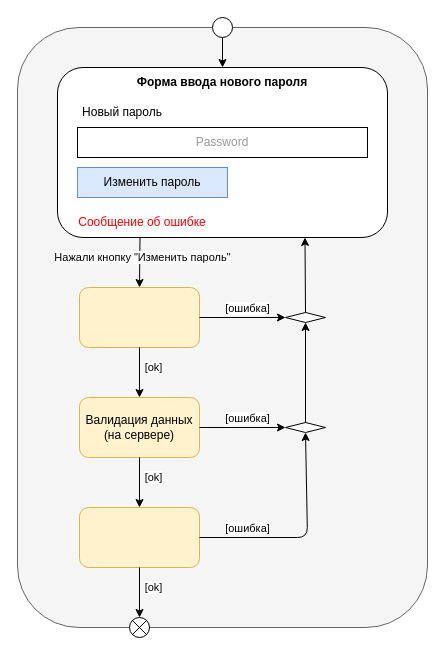
Image size: 445x655. Some labels were removed from this diagram. The shapes that lost their labels are listed below. From the top down, each one's centre as x and y in pixels, then its label:
At [139,317]: "Валидация данных (на клиенте)".
At [139,537]: "Изменение пароля и удаление UUID из базы данных".
